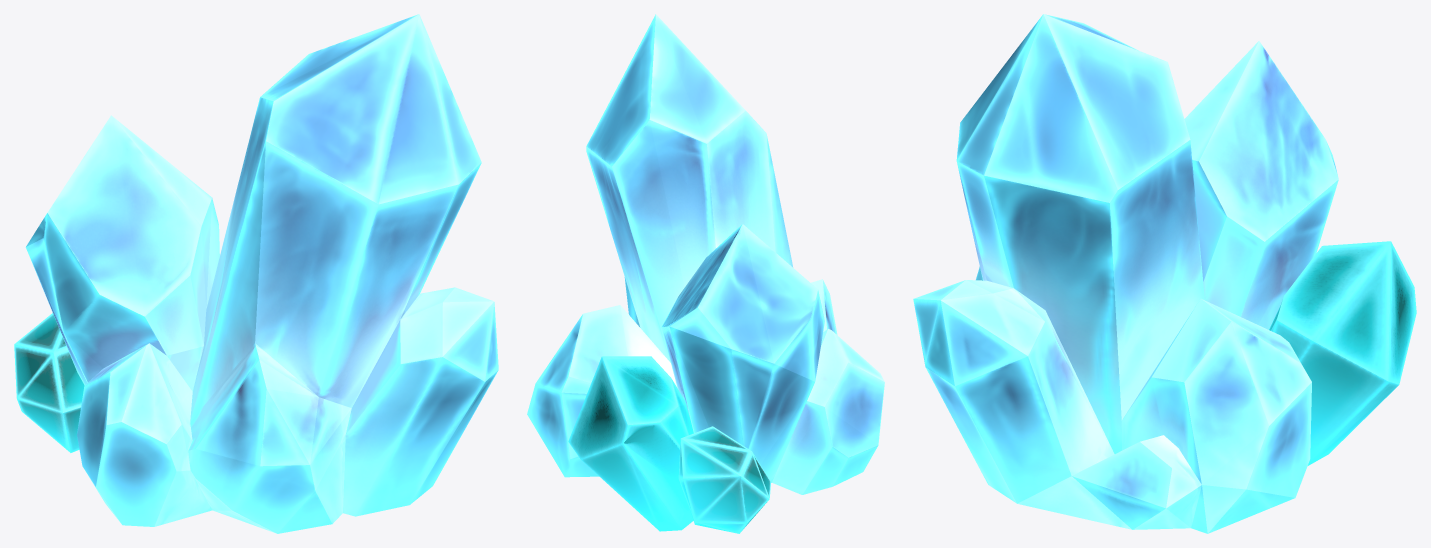
Rendered from crystal_chunk_001.fbx.
The picture shows the model from 3 angles, left to right: view 1: azimuth 30°, elevation 25°; view 2: azimuth 150°, elevation 25°; view 3: azimuth 270°, elevation 25°; orthographic projection. The views are drawn at different scales.
Parts seen in each view (by area): view 1: crystal_chunk.001; view 2: crystal_chunk.001; view 3: crystal_chunk.001.
Boxes of the visible parts, left/top/right/bottom form: crystal_chunk.001: left=14, top=14, right=498, bottom=533; crystal_chunk.001: left=527, top=14, right=884, bottom=533; crystal_chunk.001: left=913, top=14, right=1416, bottom=533.
Bounding box in the file's own units: 13.05 × 15.91 × 14.14.
